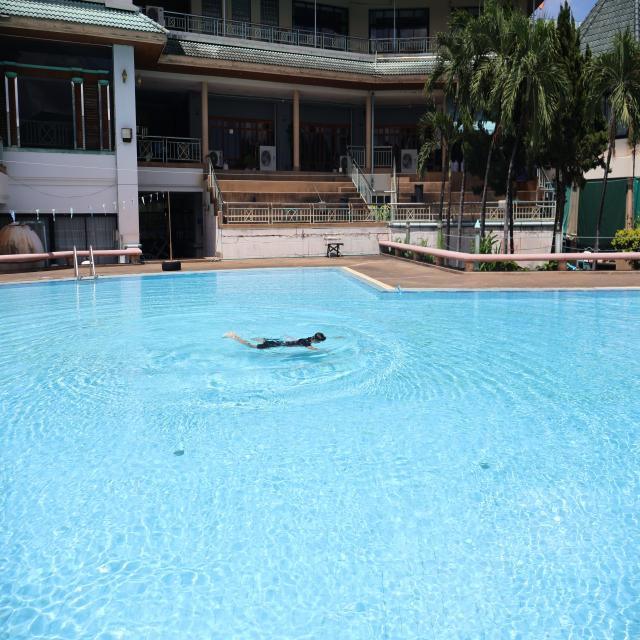Swimming: (224, 326, 344, 362)
